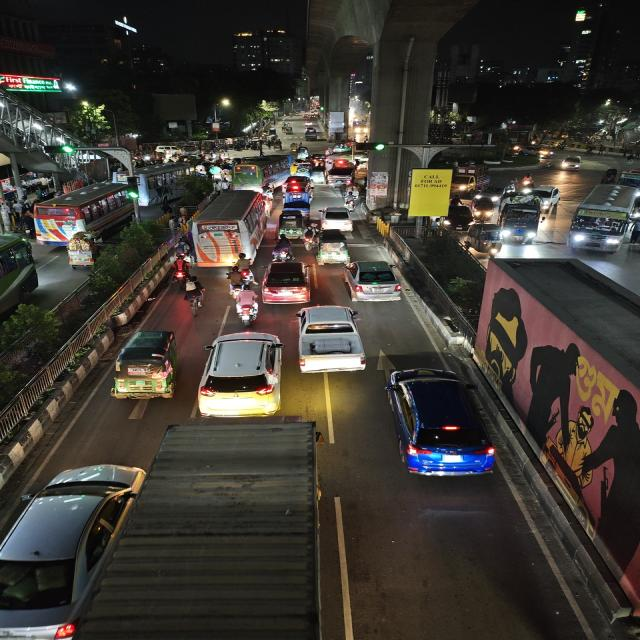bus: (28, 183, 140, 244), (191, 189, 269, 267), (565, 183, 639, 256), (0, 233, 40, 343), (231, 154, 292, 190), (136, 172, 183, 204)
car: (1, 459, 139, 640), (382, 365, 500, 485), (197, 330, 285, 417), (294, 303, 370, 378), (342, 258, 405, 304), (262, 259, 312, 305), (438, 205, 474, 233), (320, 205, 354, 232), (281, 174, 313, 200), (476, 182, 515, 202), (558, 155, 586, 172)
cng: (108, 327, 181, 405), (466, 223, 505, 259), (315, 228, 350, 266), (276, 209, 305, 240), (470, 196, 497, 222)
motorcycle: (171, 254, 201, 301), (231, 285, 260, 326), (181, 276, 207, 316), (230, 251, 256, 287), (168, 254, 194, 288), (270, 238, 294, 262), (342, 185, 362, 209)
pedestrian: (595, 144, 608, 156)
pickup_van: (499, 196, 545, 246), (455, 170, 494, 193), (324, 163, 357, 187), (282, 192, 310, 212)
rickshaw: (62, 231, 107, 273)
truck: (79, 417, 345, 640)
